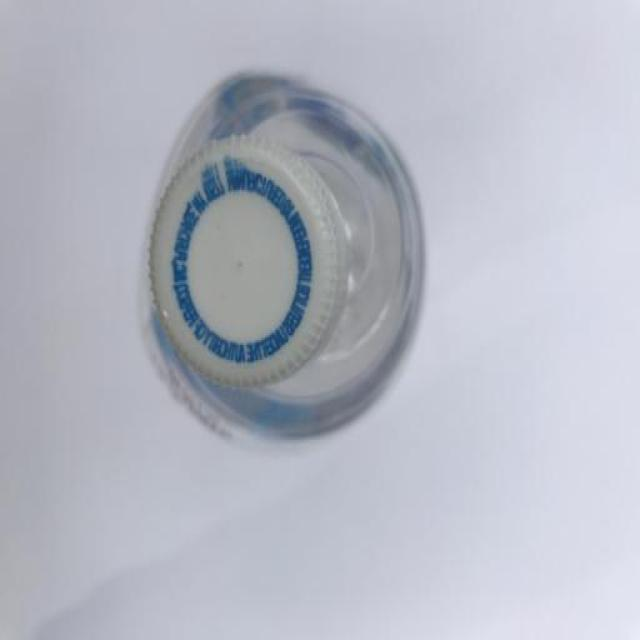plastic: (131, 62, 430, 458)
